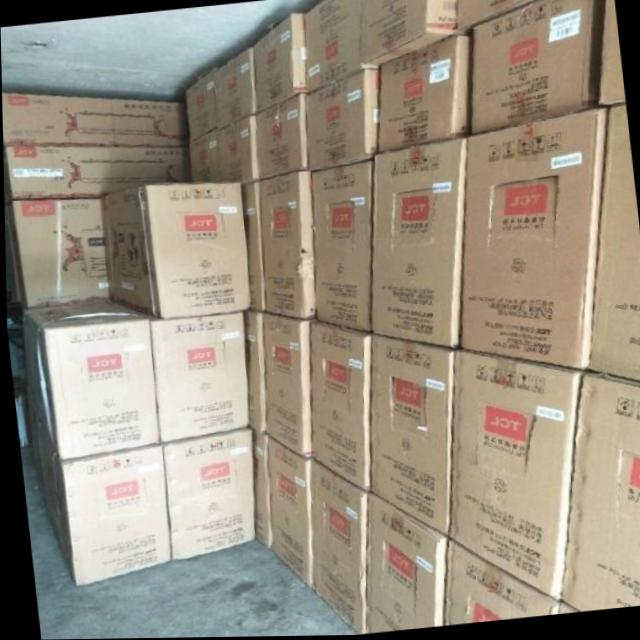box: (455, 107, 602, 372), (444, 349, 581, 601), (30, 401, 171, 587), (18, 301, 156, 461), (371, 139, 466, 349), (559, 374, 640, 613), (102, 185, 245, 318), (466, 0, 600, 136), (365, 331, 453, 535), (583, 105, 640, 385), (155, 429, 253, 563), (151, 310, 246, 443), (306, 157, 376, 332), (356, 491, 442, 633), (4, 197, 108, 313), (377, 35, 467, 155), (2, 92, 188, 150), (3, 147, 188, 205), (439, 537, 555, 626), (304, 457, 363, 631), (311, 324, 370, 491), (302, 65, 377, 173), (259, 168, 308, 320), (261, 317, 309, 460), (265, 434, 308, 591), (358, 0, 458, 66), (253, 11, 307, 114), (250, 89, 305, 182), (304, 0, 361, 89), (211, 51, 253, 129), (209, 115, 256, 183), (457, 0, 540, 34), (247, 426, 269, 551), (240, 184, 260, 318), (597, 0, 621, 109), (241, 311, 262, 430), (183, 70, 215, 144), (186, 128, 220, 184)
